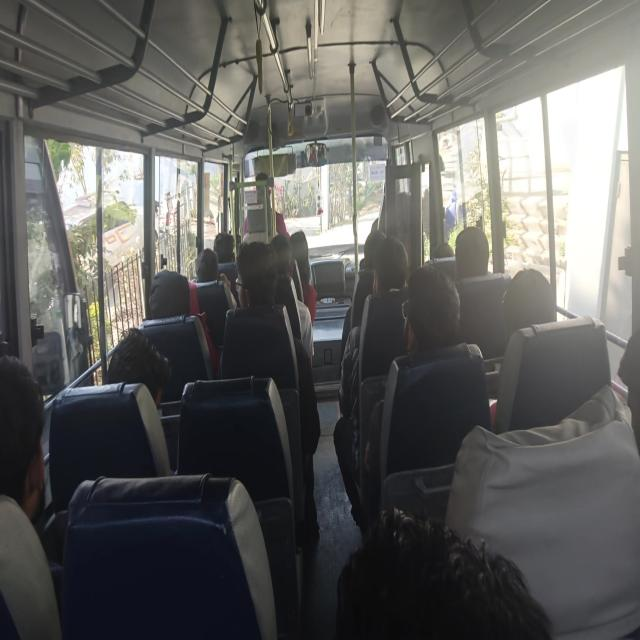person: (366, 501, 564, 640), (0, 377, 61, 627), (104, 331, 158, 418), (502, 281, 568, 351), (406, 283, 452, 352), (458, 223, 496, 301), (609, 333, 640, 413), (247, 256, 283, 311), (364, 230, 403, 278), (146, 274, 184, 323), (368, 244, 403, 294), (285, 225, 319, 257), (214, 232, 245, 264), (434, 232, 462, 265), (190, 255, 218, 280), (276, 244, 296, 278)
